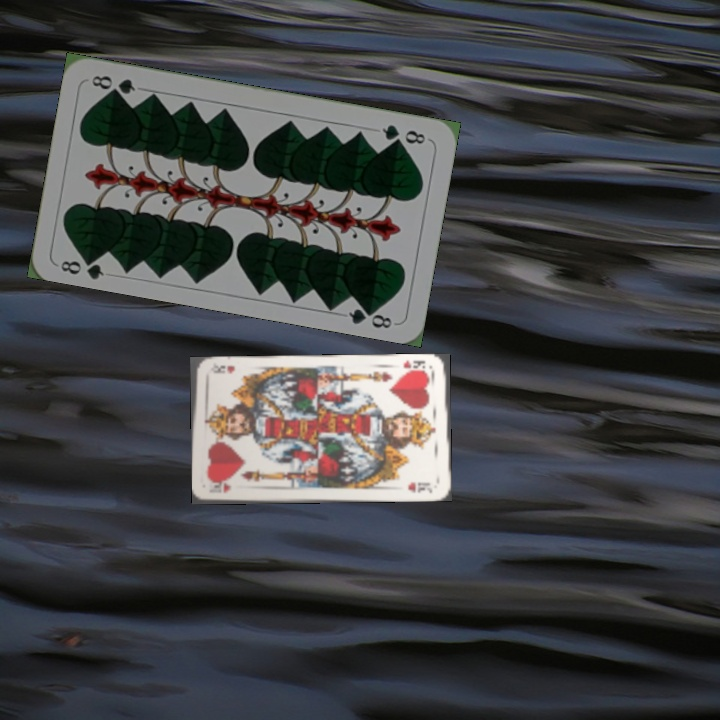G8: (56, 250, 107, 281), (378, 120, 428, 147)
HK: (397, 356, 429, 376), (206, 480, 234, 495)
